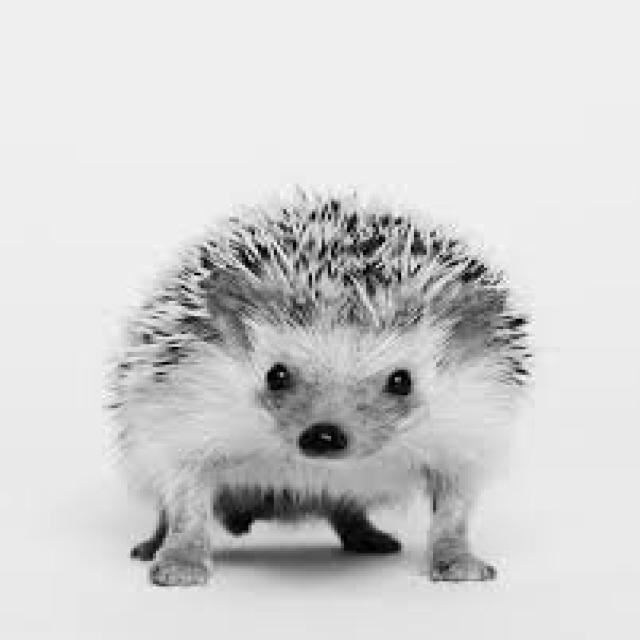Hedgehog: (91, 175, 550, 596)
